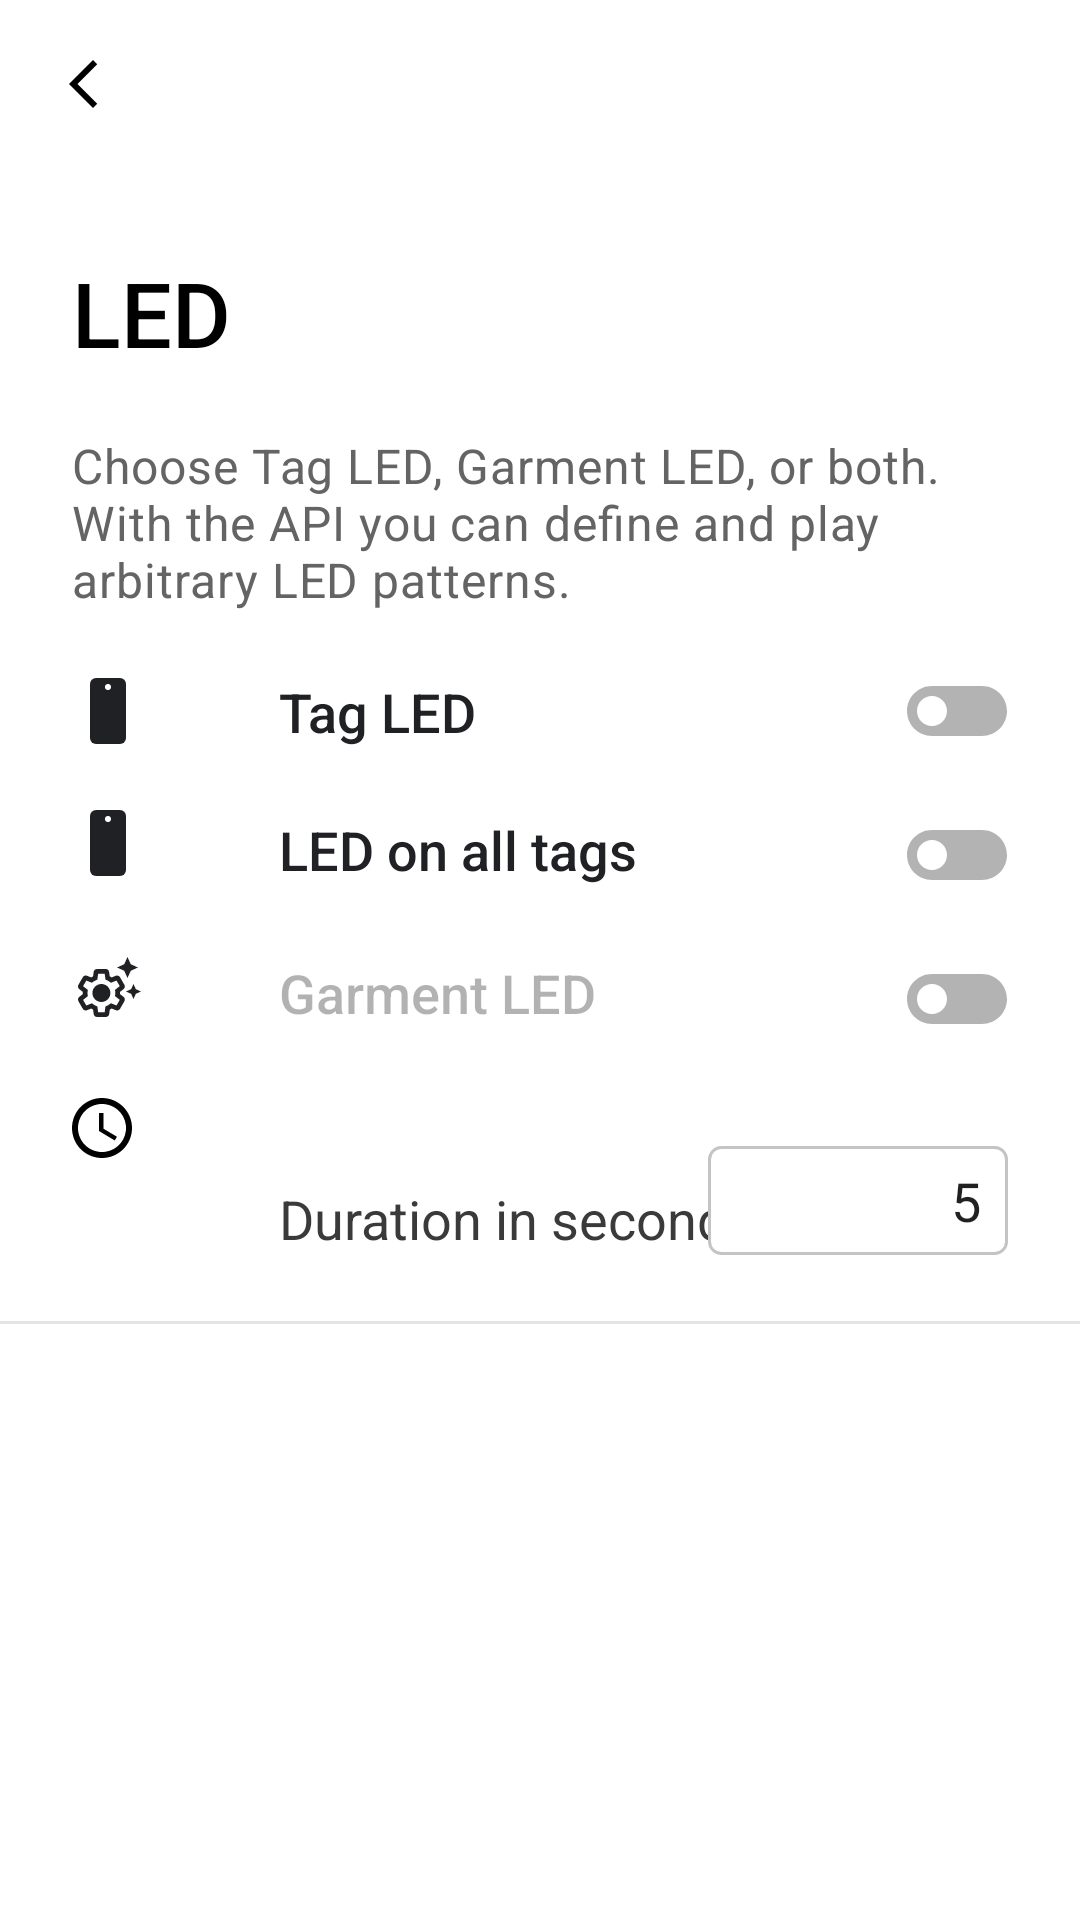

Icons on this 1080×1920 Android screen, each with its box as (x1, y1, x2, y2):
led duration: (72, 1098, 132, 1158)
setting suggest: (78, 957, 141, 1017)
